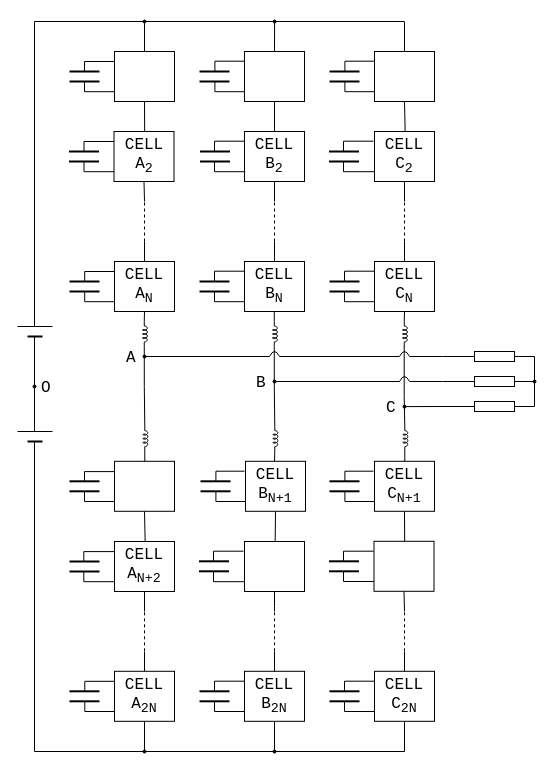
Image size: 557x774. Some labels were removed from this diagram. Here are the shapes that lost their labels. From the top down, the centre of each, then its label:
At pixel 144 76: "CELL A 1".
At pixel 274 76: "CELL B 1".
At pixel 404 76: "CELL C 1".
At pixel 144 485: "CELL A N+1".
At pixel 274 566: "CELL B N+2".
At pixel 403 565: "CELL C N+2".
